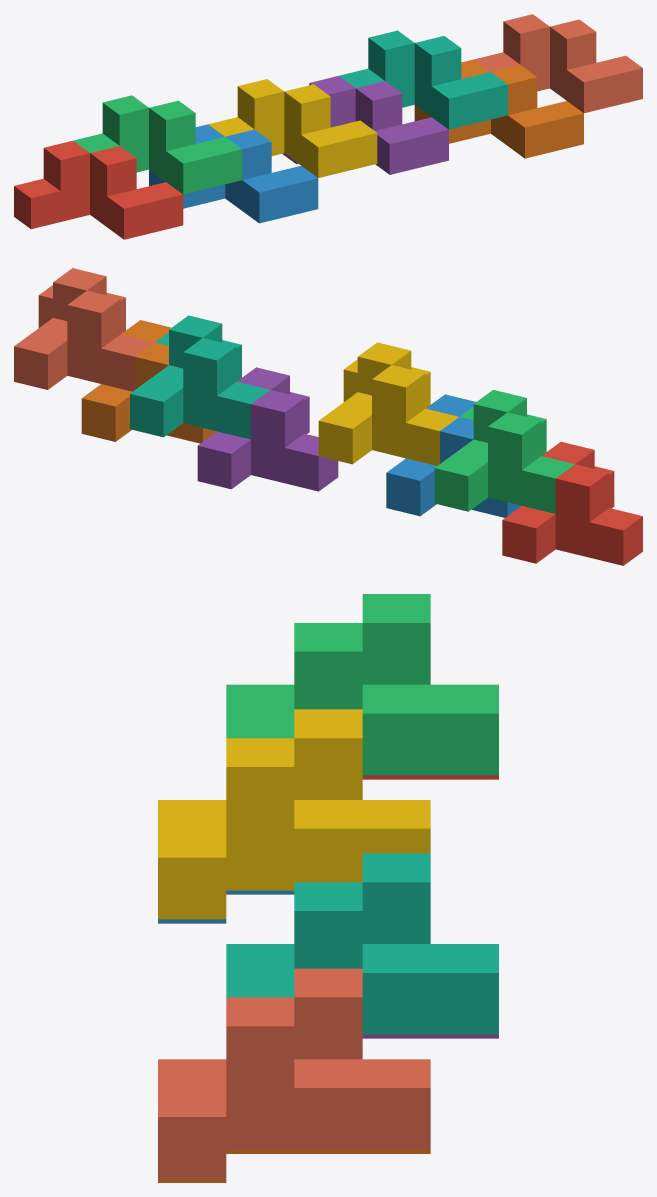
Rendered from tiling.obj.
3 views of the same model, one above another, from view 1: azimuth 30°, elevation 25°; view 2: azimuth 150°, elevation 25°; view 3: azimuth 270°, elevation 25° (orthographic). The views are drawn at different scales.
Visible parts, largest first — view 1: copy_1_domain_1, copy_1_domain_4, copy_1_domain_3, copy_1_domain_7, copy_1_domain_8, copy_1_domain_5, copy_1_domain_2, copy_1_domain_6; view 2: copy_1_domain_4, copy_1_domain_8, copy_1_domain_3, copy_1_domain_7, copy_1_domain_1, copy_1_domain_5, copy_1_domain_6, copy_1_domain_2; view 3: copy_1_domain_8, copy_1_domain_4, copy_1_domain_3, copy_1_domain_7, copy_1_domain_6.
Part boxes in pixels (x1,y1,x2,y2): copy_1_domain_1: (14, 140, 183, 239); copy_1_domain_4: (208, 79, 377, 177); copy_1_domain_3: (73, 95, 242, 194); copy_1_domain_7: (339, 30, 507, 129); copy_1_domain_8: (474, 14, 642, 113); copy_1_domain_5: (282, 76, 448, 174); copy_1_domain_2: (149, 124, 318, 223); copy_1_domain_6: (414, 59, 583, 158); copy_1_domain_4: (318, 342, 458, 465); copy_1_domain_8: (14, 268, 154, 391); copy_1_domain_3: (434, 389, 574, 513); copy_1_domain_7: (130, 315, 269, 439); copy_1_domain_1: (502, 441, 642, 565); copy_1_domain_5: (197, 367, 338, 491); copy_1_domain_6: (81, 320, 216, 443); copy_1_domain_2: (386, 394, 521, 517); copy_1_domain_8: (158, 968, 430, 1178); copy_1_domain_4: (158, 709, 430, 919); copy_1_domain_3: (226, 594, 498, 775); copy_1_domain_7: (226, 853, 498, 1034); copy_1_domain_6: (158, 1150, 430, 1182).
Bounding box in the file's own units: 19 × 3 × 5.
